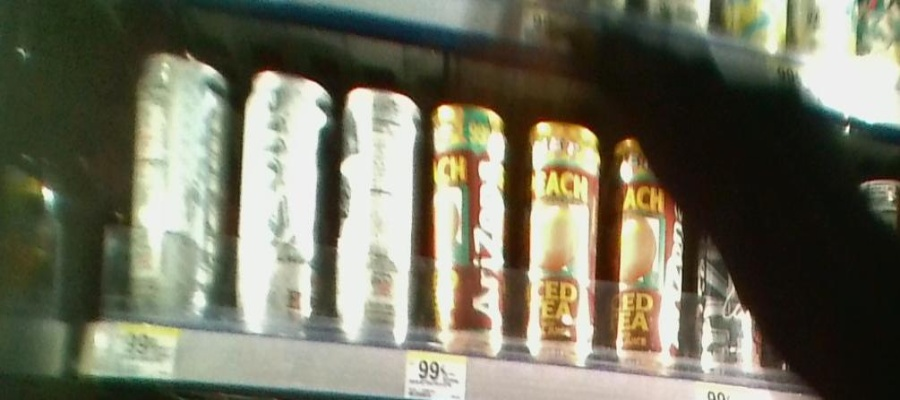bottle: (126, 44, 231, 332), (236, 52, 332, 332), (422, 79, 511, 357), (519, 99, 603, 374), (338, 66, 419, 351), (610, 119, 689, 377)
